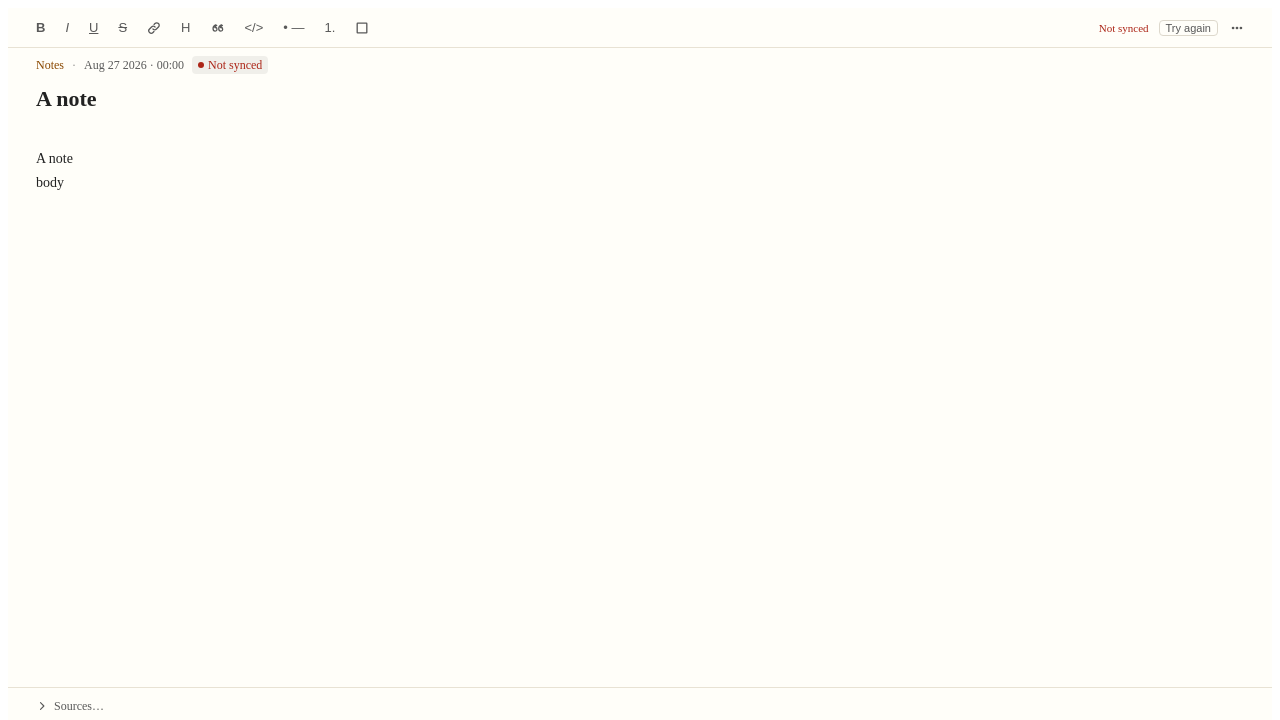
it: NoteEditor shows why a push is blocked, and locks only when editing cannot help › an ordinary block shows the reason as text but leaves the editor open
Click the button with class "meta-status": (230, 65) [192,56,268,74]
(page scrolled)
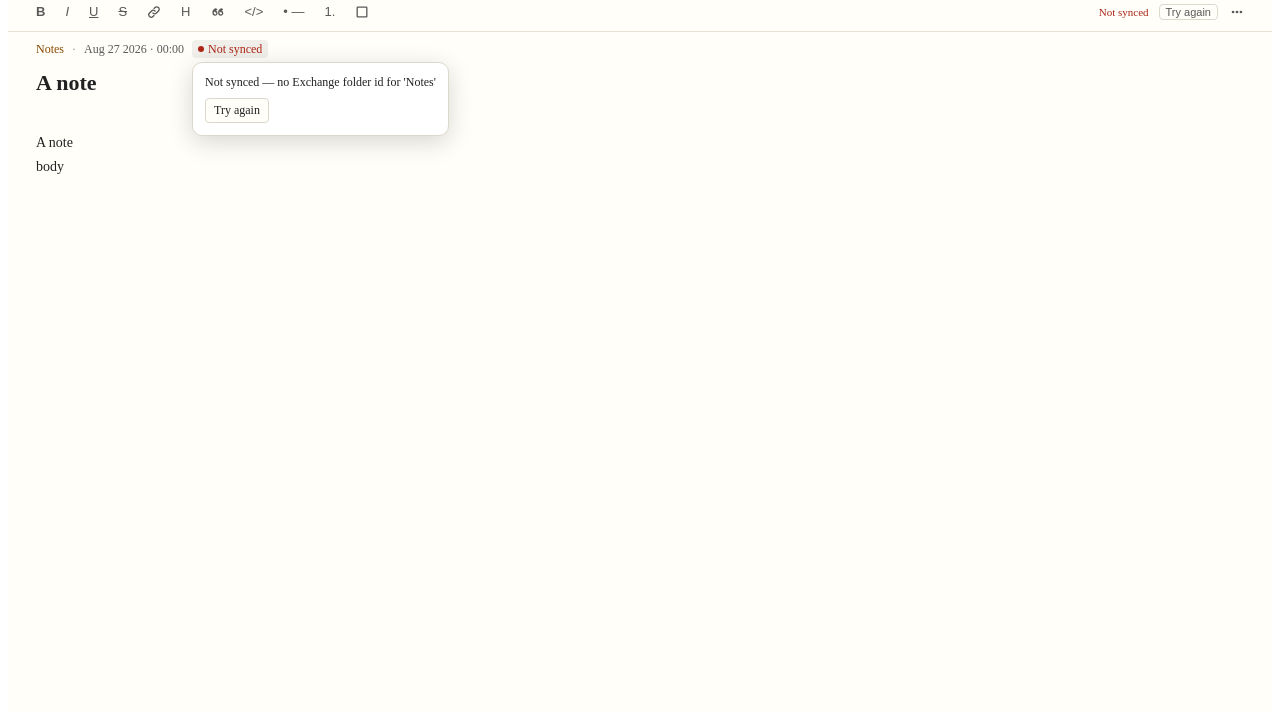
Expected: the dialog with test id "meta-status-popover" shows "no Exchange folder id for 'Notes'", [205,75,436,89]
